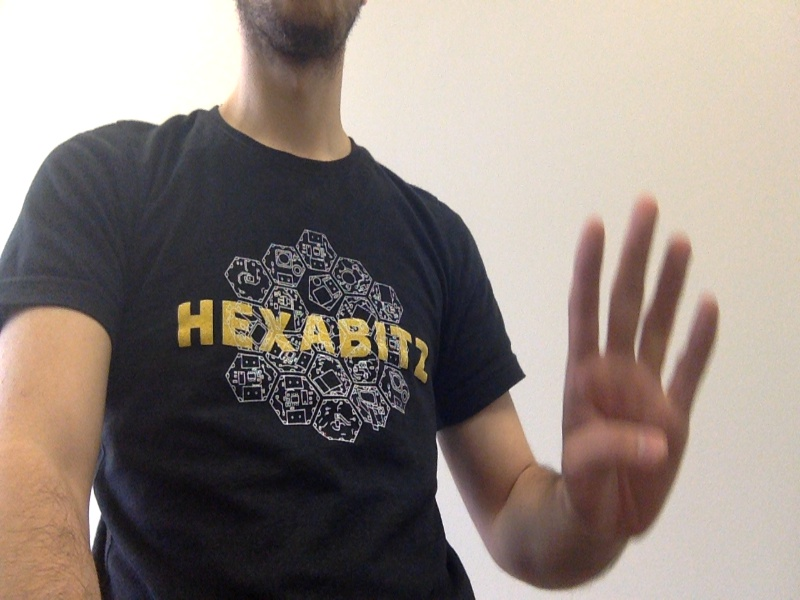4-hand: (567, 191, 720, 549)
